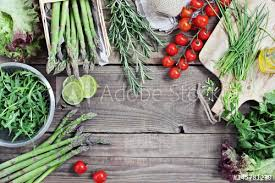Tomato: (193, 14, 211, 26), (72, 160, 88, 173), (93, 170, 109, 183), (176, 30, 188, 45), (164, 58, 178, 69), (185, 51, 197, 61)
